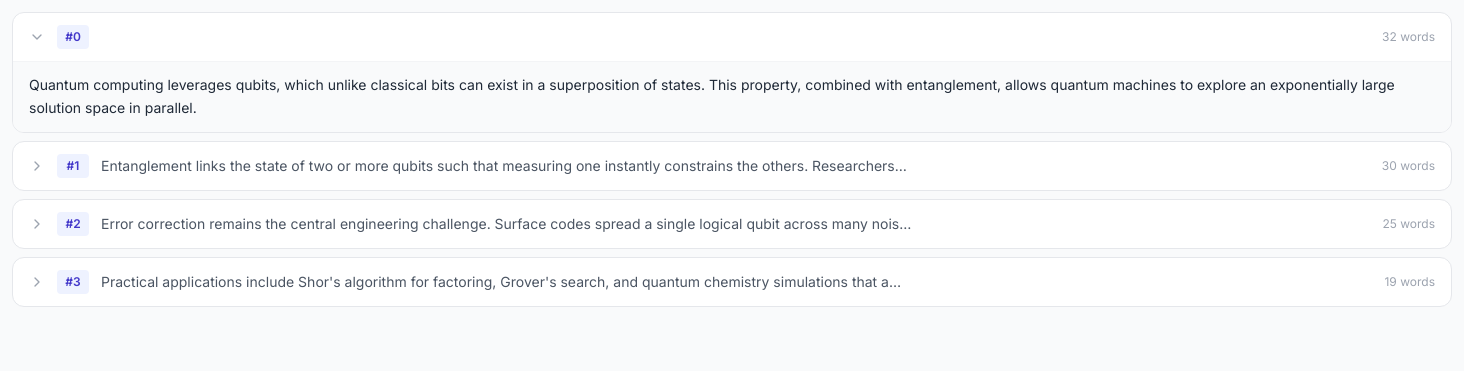
Test case: ChunkViewer › toggles a collapsed chunk open on click
Click the 2nd button.
click(732, 166)  # box [13, 142, 1451, 190]
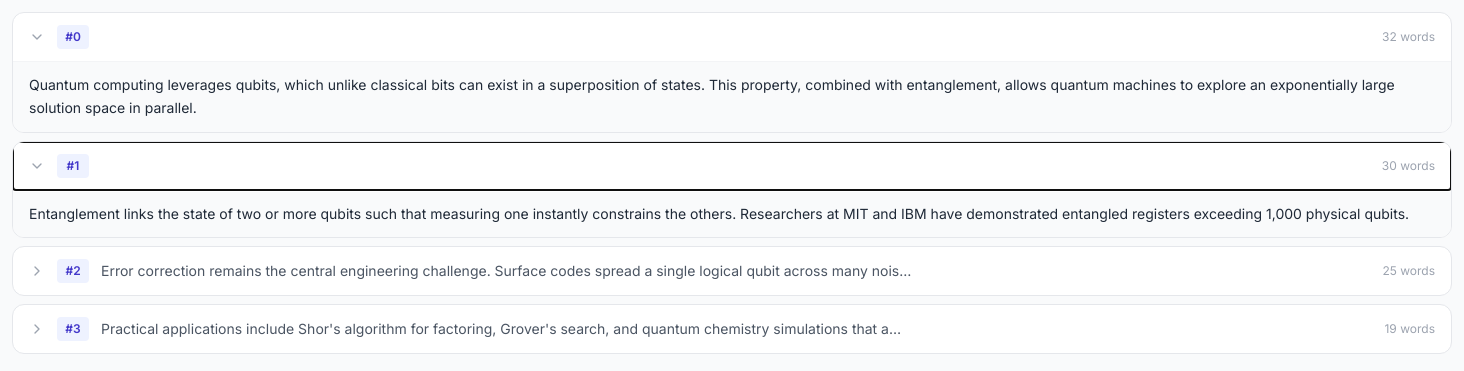
Expected: the button "#1 30 words" is expanded, [13, 142, 1451, 190]
